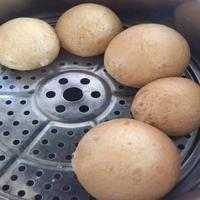biodegradable: (70, 117, 181, 200), (103, 23, 192, 89), (131, 75, 200, 136), (55, 1, 123, 57), (0, 16, 60, 70)
